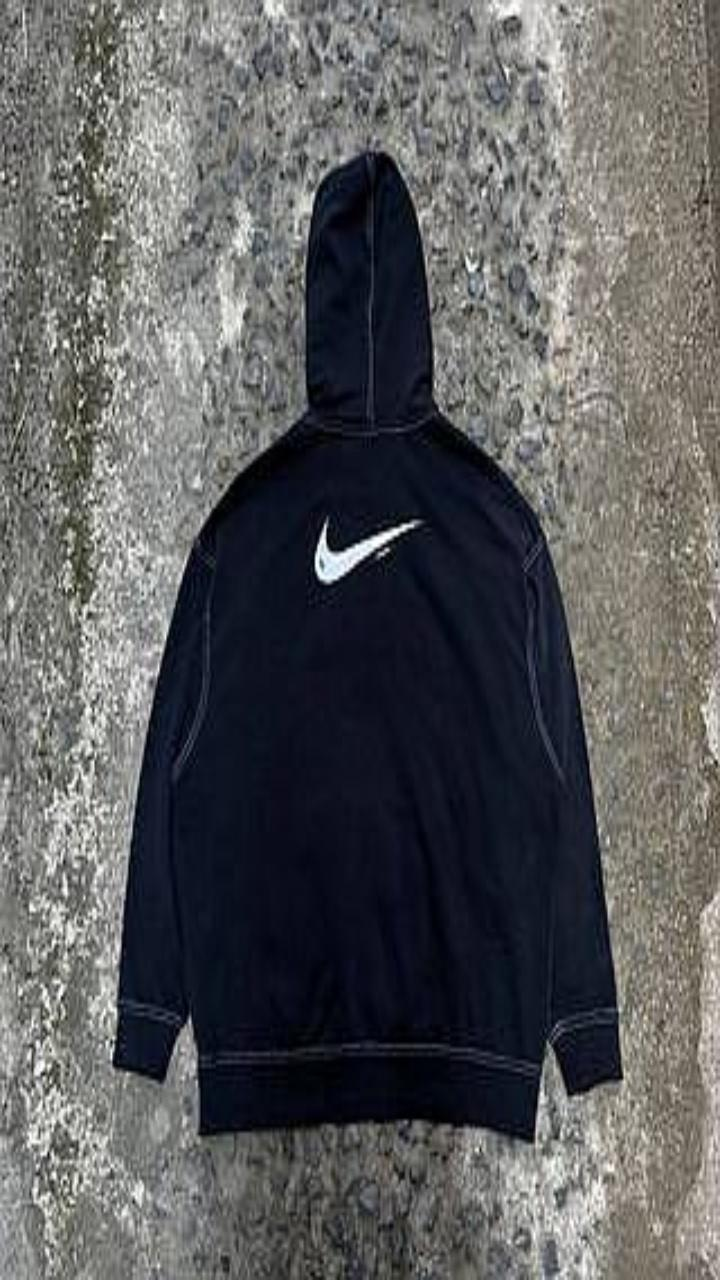Sports_Jacket: (113, 150, 622, 1141)
